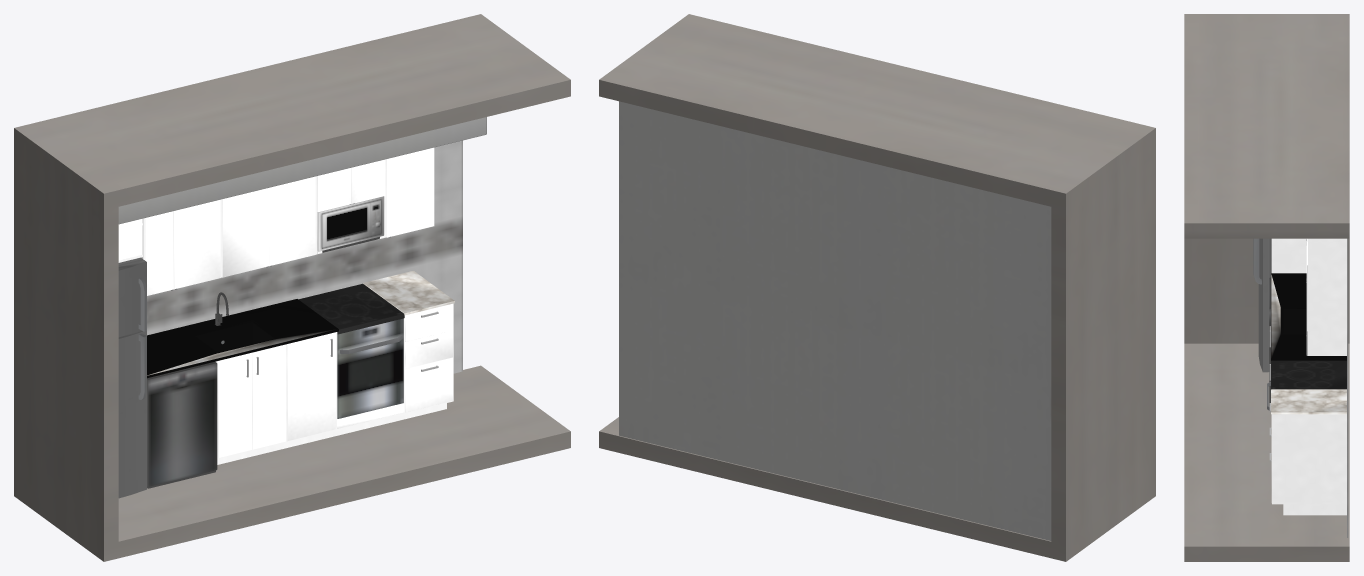
Rendered from kitchen--low-poly-368195.glb.
3 renders of one model, left to right at view 1: azimuth 30°, elevation 25°; view 2: azimuth 150°, elevation 25°; view 3: azimuth 270°, elevation 25°, orthographic. The views are drawn at different scales.
Visible parts, largest first — view 1: PropMesh; view 2: PropMesh; view 3: PropMesh.
Part boxes in pixels (x1,y1,x2,y2): PropMesh: (14, 14, 570, 561); PropMesh: (599, 14, 1155, 561); PropMesh: (1184, 14, 1349, 561).
Bounding box in the file's own units: 2.6 × 1.96 × 0.8668.
Materials: 4 (4 with a texture image).
